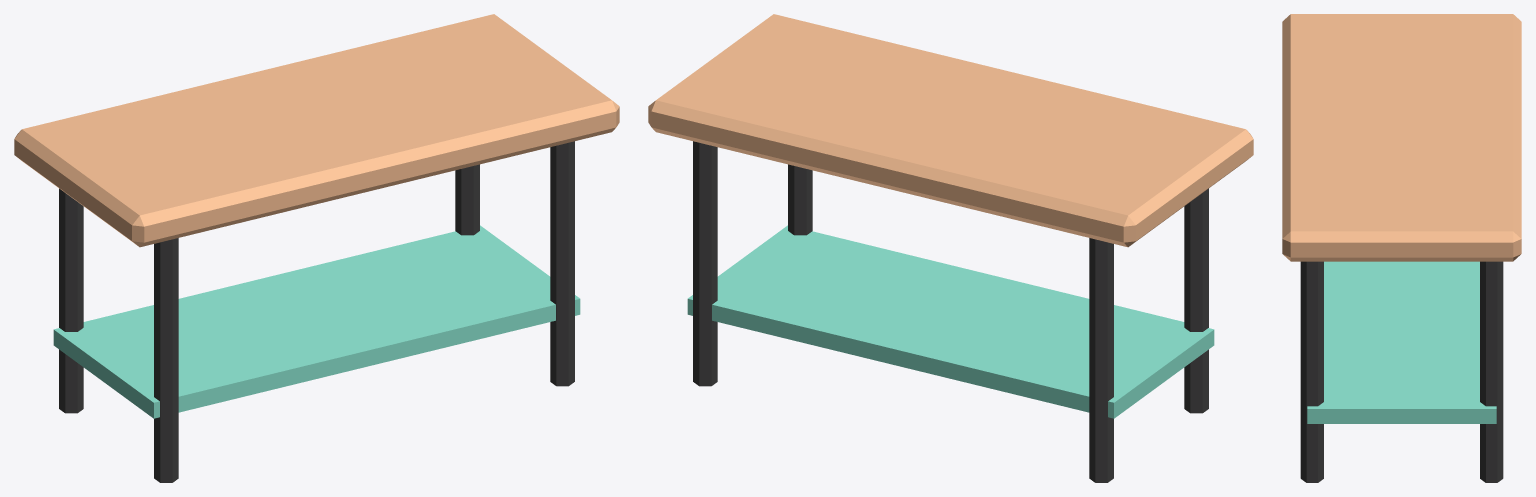
The picture shows the model from 3 angles, left to right: view 1: azimuth 30°, elevation 25°; view 2: azimuth 150°, elevation 25°; view 3: azimuth 270°, elevation 25°; orthographic projection. The views are drawn at different scales.
Parts seen in each view (by area): view 1: Worktop, Lower shelf, Leg.002, Leg, Leg.001, Leg.003; view 2: Worktop, Lower shelf, Leg.003, Leg.001, Leg, Leg.002; view 3: Worktop, Lower shelf, Leg.002, Leg.003.
Part boxes in pixels (x1,y1,x2,y2): Worktop: [14, 14, 619, 247]; Lower shelf: [53, 225, 580, 418]; Leg.002: [550, 141, 574, 386]; Leg: [154, 238, 178, 482]; Leg.001: [59, 188, 83, 413]; Leg.003: [455, 164, 479, 235]; Worktop: [648, 14, 1253, 247]; Lower shelf: [687, 225, 1214, 418]; Leg.003: [693, 141, 717, 386]; Leg.001: [1089, 238, 1113, 482]; Leg: [1184, 188, 1208, 413]; Leg.002: [788, 164, 812, 235]; Worktop: [1282, 14, 1521, 261]; Lower shelf: [1307, 261, 1496, 423]; Leg.002: [1300, 261, 1323, 482]; Leg.003: [1480, 261, 1503, 482].
Size of the model in its own units: 160 by 88 by 72.
